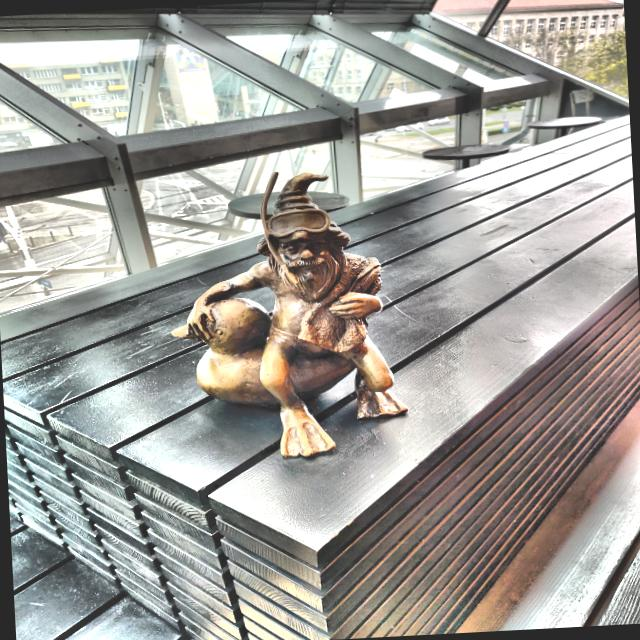Babelek_Chlaptus: (172, 173, 407, 457)
